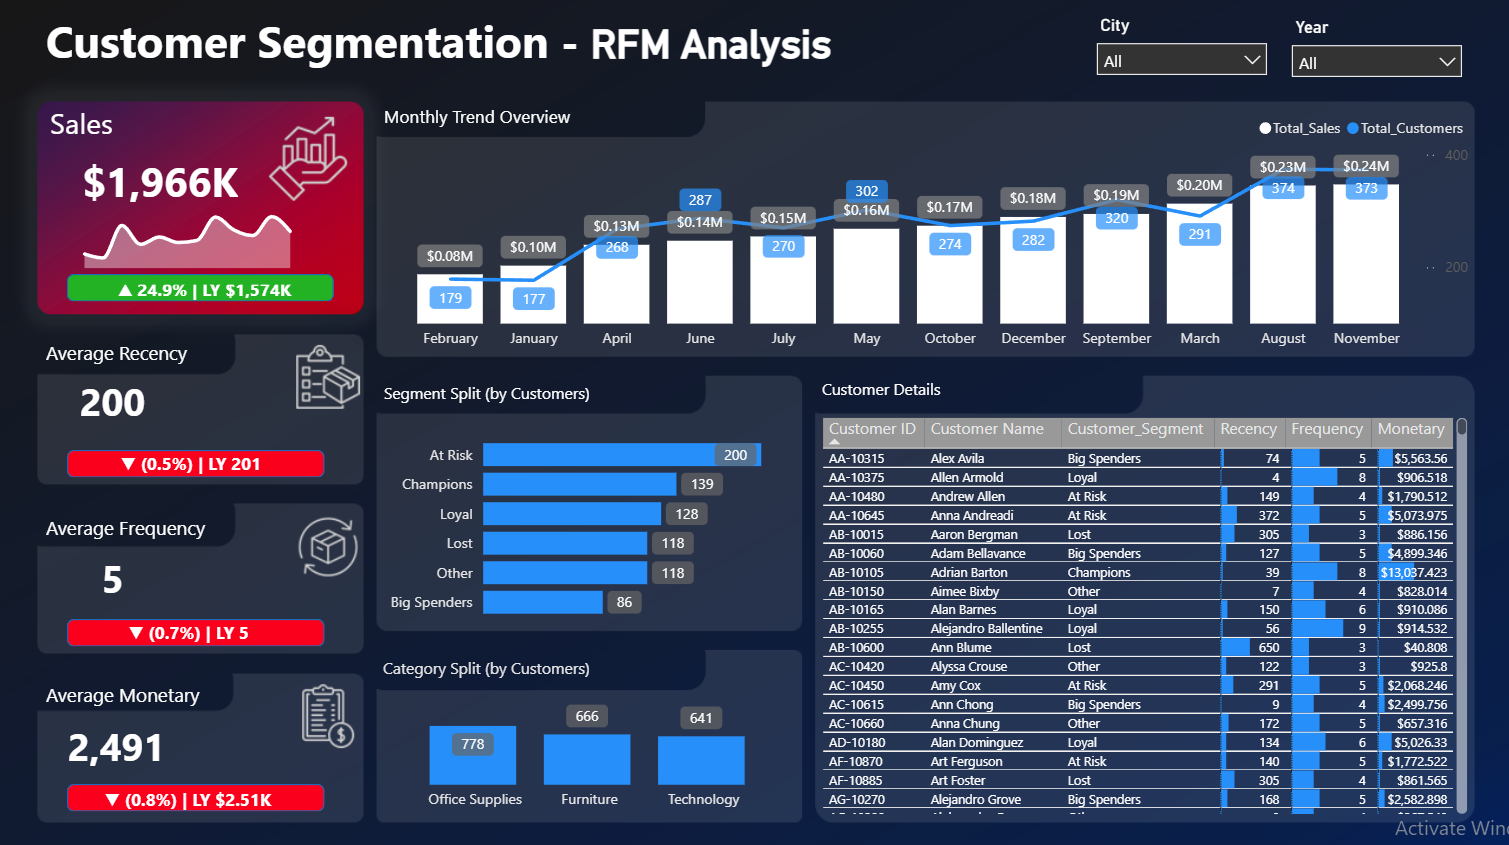

This screenshot's page, from the dashboard's own definition file:
{"tool":"powerbi","page":{"name":"Page 1","canvas":[1280,720],"ordinal":0},"visuals":[{"type":"textbox","box":[34,4.9,726.6,72],"z":0},{"type":"textbox","box":[37,82.7,92.4,49.6],"z":1000},{"type":"card","fields":{"Values":["Table_Measures.AvgRecency"]},"box":[28.2,308.3,134.2,65.2],"z":2000},{"type":"card","fields":{"Values":["Table_Measures.AvgFrequency"]},"box":[51.6,464.9,87.5,50.6],"z":3000},{"type":"card","fields":{"Values":["Table_Measures.AvgMonetary"]},"box":[37,606,122.6,54.5],"z":4000},{"type":"textbox","box":[34,283,131.3,33.1],"z":5000},{"type":"textbox","box":[34,431.9,177,33.1],"z":6000},{"type":"textbox","box":[34,572.9,177,33.1],"z":7000},{"type":"cardVisual","fields":{"Data":["Table_Measures.Total_Sales"]},"box":[40.9,116.7,204.3,72.9],"z":8000},{"type":"shape","box":[56.4,232.5,225.7,23.3],"z":9000},{"type":"card","fields":{"Values":["Table_Measures.YoY SalesVariance"]},"box":[74.9,232.5,195.5,23.3],"z":10000},{"type":"slicer","fields":{"Values":["DateTable.Year"]},"box":[1082.6,10.7,164.4,61.3],"z":11000},{"type":"shape","box":[56.4,381.3,217.9,23.3],"z":12000},{"type":"card","fields":{"Values":["Table_Measures.YoY RecencyVar"]},"box":[67.1,380.3,189.7,24.3],"z":13000},{"type":"shape","box":[56.4,524.3,217.9,23.3],"z":14000},{"type":"card","fields":{"Values":["Table_Measures.YoY FrequencyVar"]},"box":[63.2,523.3,192.6,24.3],"z":15000},{"type":"shape","box":[56.4,664.3,217.9,23.3],"z":16000},{"type":"card","fields":{"Values":["Table_Measures.YoYMonetaryVariance"]},"box":[64.2,664.3,189.7,30.2],"z":17000},{"type":"lineChart","fields":{"Category":["DateTable.Month Number"],"Y":["Table_Measures.Total_Sales"]},"box":[40.9,166.3,267.5,66.1],"z":18000},{"type":"lineStackedColumnComboChart","fields":{"Y":["Table_Measures.Total_Sales"],"Y2":["Table_Measures.Total_Customers"],"Category":["DateTable.Month Name"]},"box":[320,89.5,927.9,215],"z":19000},{"type":"textbox","box":[320,83.6,205.2,33.1],"z":20000},{"type":"clusteredBarChart","fields":{"Category":["RFM_calculation.Customer_Segment"],"Y":["Table_Measures.Total_Customers"]},"box":[320,353.1,354,182.9],"z":21000},{"type":"textbox","box":[320,320,205.2,33.1],"z":22000},{"type":"clusteredColumnChart","fields":{"Category":["Superstore 2025.Category"],"Y":["Table_Measures.Total_Customers"]},"box":[320,582.6,357.9,111.9],"z":23000},{"type":"textbox","box":[319,552.5,205.2,33.1],"z":24000},{"type":"tableEx","fields":{"Values":["RFM_calculation.Customer ID","RFM_calculation.Customer Name","RFM_calculation.Customer_Segment","RFM_calculation.Recency","RFM_calculation.Frequency","RFM_calculation.Monetary"]},"box":[690.6,349.2,556.4,345.3],"z":25000},{"type":"textbox","box":[690.6,316.1,205.2,33.1],"z":26000},{"type":"slicer","fields":{"Values":["Superstore 2025.City"]},"box":[918.2,9.7,164.4,61.3],"z":26001}]}

Visuals, with their boxes on the page's 1280x720 design canvas (x1, y1, x2, y2). These are canvas units, not pixel positions in the 1509x845 screenshot, which may show the page scaled, cropped or inside an application window:
textbox: box=[34, 5, 761, 77]
textbox: box=[37, 83, 129, 132]
card - Table_Measures.AvgRecency: box=[28, 308, 162, 374]
card - Table_Measures.AvgFrequency: box=[52, 465, 139, 516]
card - Table_Measures.AvgMonetary: box=[37, 606, 160, 660]
textbox: box=[34, 283, 165, 316]
textbox: box=[34, 432, 211, 465]
textbox: box=[34, 573, 211, 606]
cardVisual - Table_Measures.Total_Sales: box=[41, 117, 245, 190]
shape: box=[56, 232, 282, 256]
card - Table_Measures.YoY SalesVariance: box=[75, 232, 270, 256]
slicer - DateTable.Year: box=[1083, 11, 1247, 72]
shape: box=[56, 381, 274, 405]
card - Table_Measures.YoY RecencyVar: box=[67, 380, 257, 405]
shape: box=[56, 524, 274, 548]
card - Table_Measures.YoY FrequencyVar: box=[63, 523, 256, 548]
shape: box=[56, 664, 274, 688]
card - Table_Measures.YoYMonetaryVariance: box=[64, 664, 254, 694]
lineChart - DateTable.Month Number x Table_Measures.Total_Sales: box=[41, 166, 308, 232]
lineStackedColumnComboChart - Table_Measures.Total_Sales x Table_Measures.Total_Customers: box=[320, 90, 1248, 304]
textbox: box=[320, 84, 525, 117]
clusteredBarChart - RFM_calculation.Customer_Segment x Table_Measures.Total_Customers: box=[320, 353, 674, 536]
textbox: box=[320, 320, 525, 353]
clusteredColumnChart - Superstore 2025.Category x Table_Measures.Total_Customers: box=[320, 583, 678, 694]
textbox: box=[319, 552, 524, 586]
tableEx - RFM_calculation.Customer ID x RFM_calculation.Customer Name: box=[691, 349, 1247, 694]
textbox: box=[691, 316, 896, 349]
slicer - Superstore 2025.City: box=[918, 10, 1083, 71]
